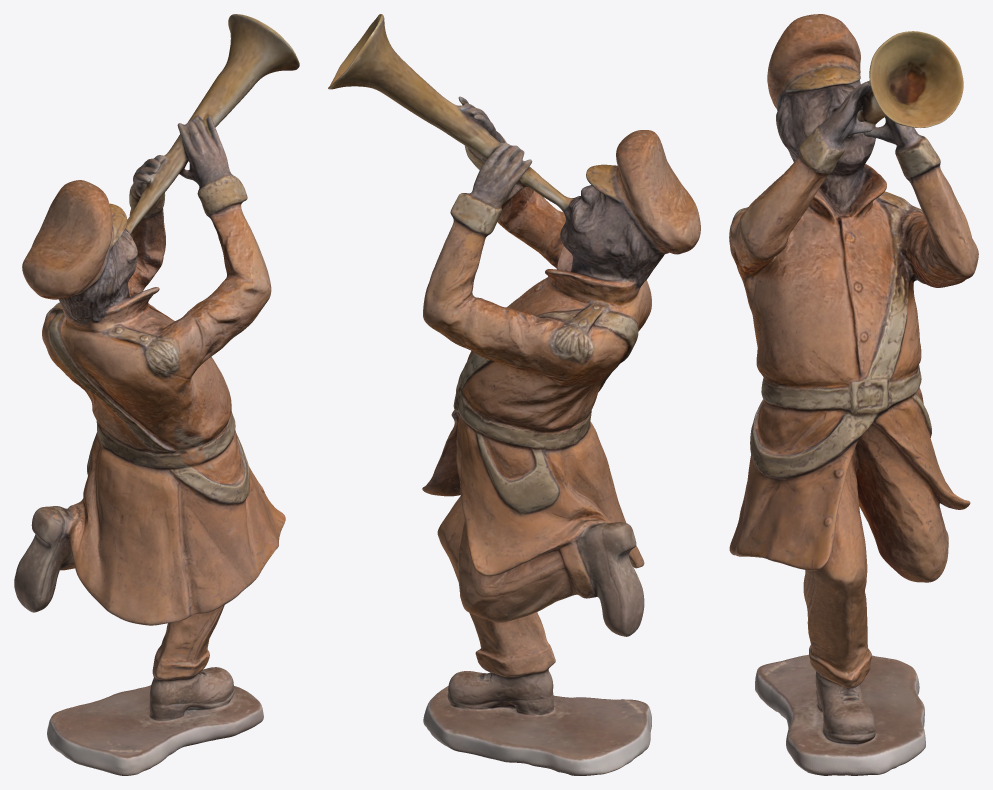
The model's file is khanna-untitled-trumpeter.glb.
The picture shows the model from 3 angles, left to right: view 1: azimuth 30°, elevation 25°; view 2: azimuth 150°, elevation 25°; view 3: azimuth 270°, elevation 25°; orthographic projection. The views are drawn at different scales.
Visible parts, largest first — view 1: 27 - Krishan Khanna - 05; view 2: 27 - Krishan Khanna - 05; view 3: 27 - Krishan Khanna - 05.
Part boxes in pixels (left/top/right/bottom): 27 - Krishan Khanna - 05: left=14, top=14, right=299, bottom=775; 27 - Krishan Khanna - 05: left=328, top=14, right=700, bottom=775; 27 - Krishan Khanna - 05: left=729, top=14, right=978, bottom=775.
Size of the model in its own units: 27.68 by 58.63 by 17.45.
1 material, 1 textured.
